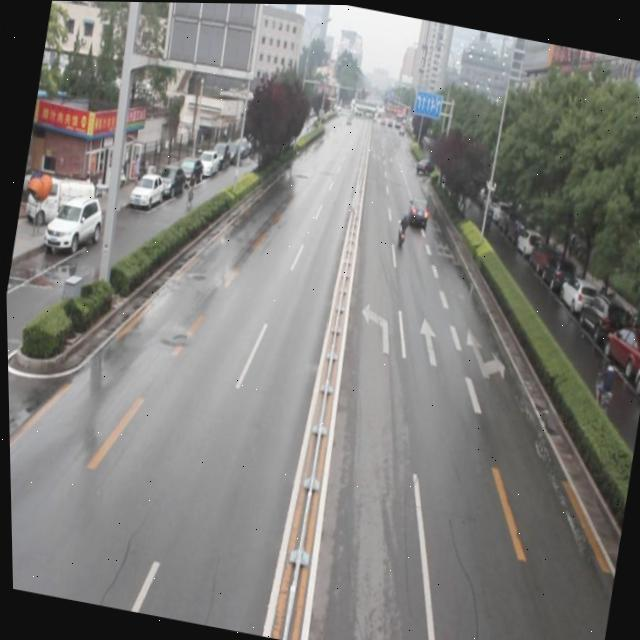car: (403, 192, 429, 226), (412, 155, 433, 177)
